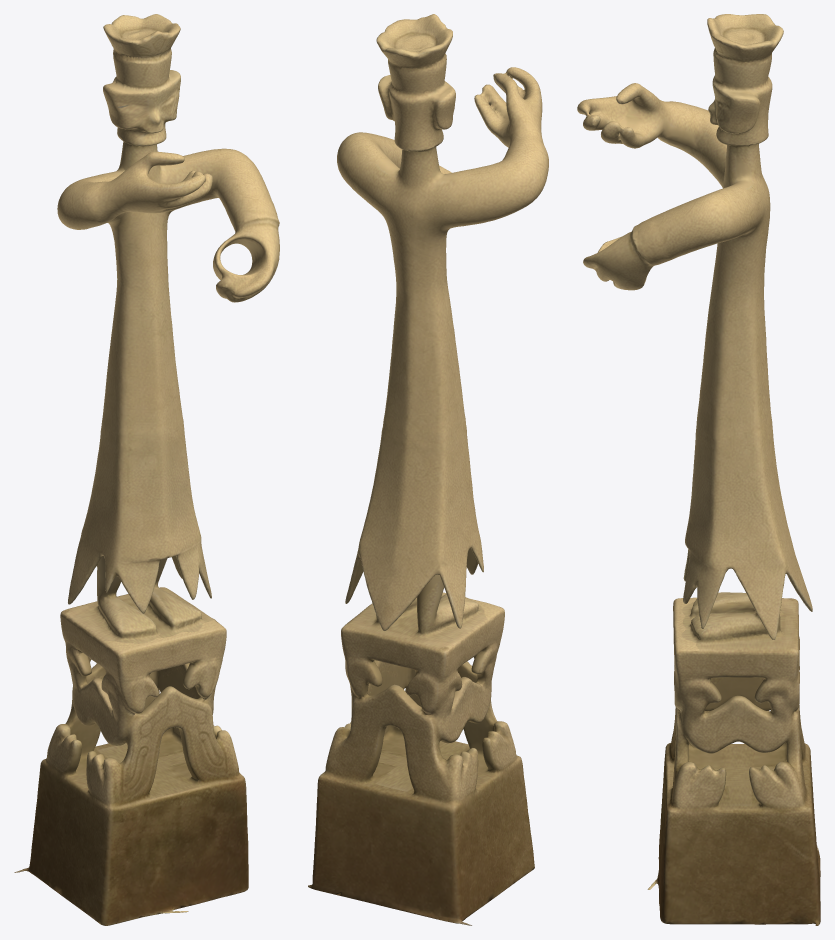
The model's file is guardian-statue.glb.
3 renders of one model, left to right at view 1: azimuth 30°, elevation 25°; view 2: azimuth 150°, elevation 25°; view 3: azimuth 270°, elevation 25°, orthographic. The views are drawn at different scales.
Size of the model in its own units: 0.4581 by 1.9 by 0.4805.
1 material, 1 textured.
